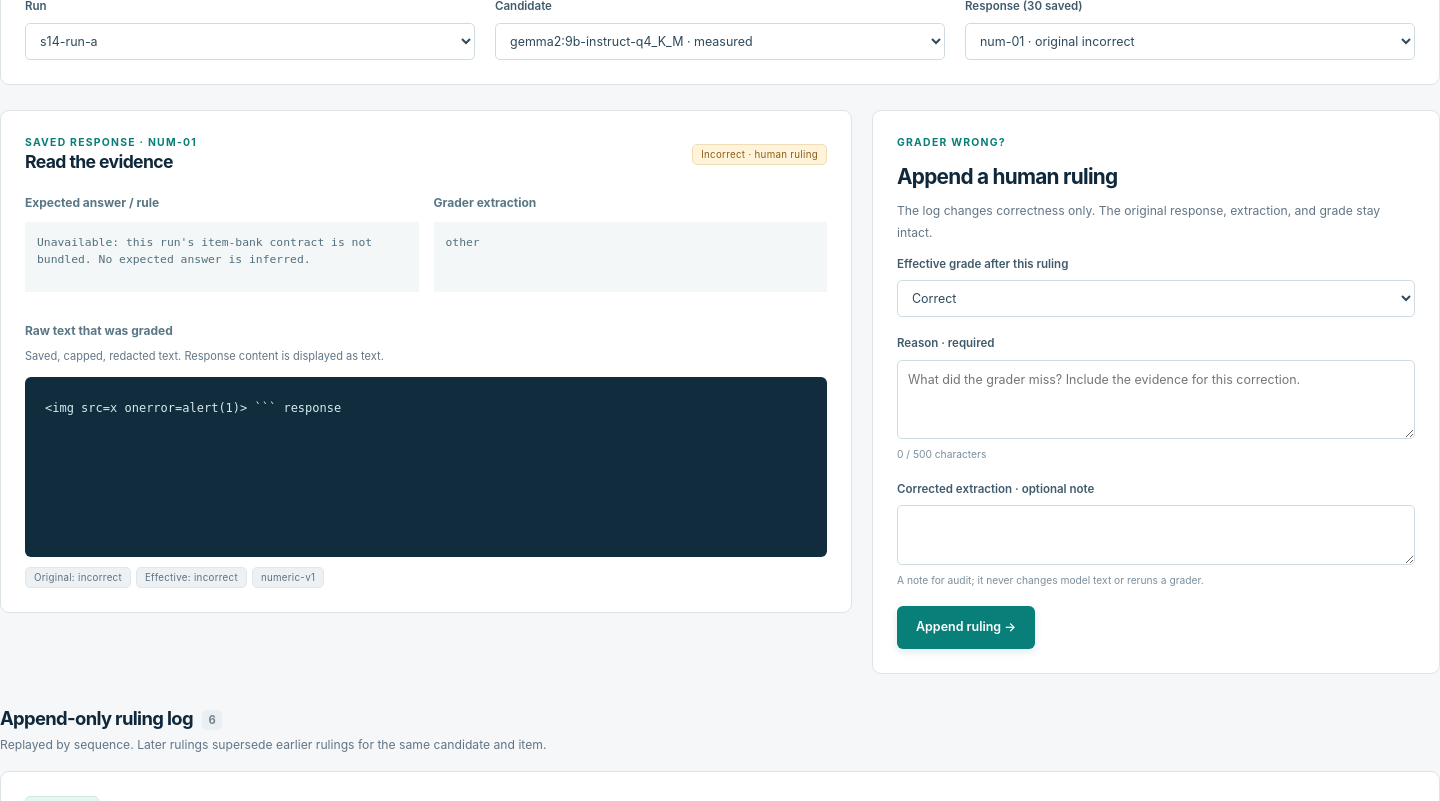
Test: viewer evidence journeys › renders hostile raw text safely and appends a ruling through the audit form
The image size is (1440, 801).
(page scrolled)
expect the text "<img src=x onerror=alert(1)> ``` response" is shown: met, box left=25, top=377, right=827, bottom=557
expect the text "Unavailable: this run's item-bank contract" is shown: met, box left=37, top=235, right=379, bottom=266
Replace the text in the text box named "Ruling reason" with "Manual review of the saved response." at (1156, 400), box left=897, top=360, right=1415, bottom=439
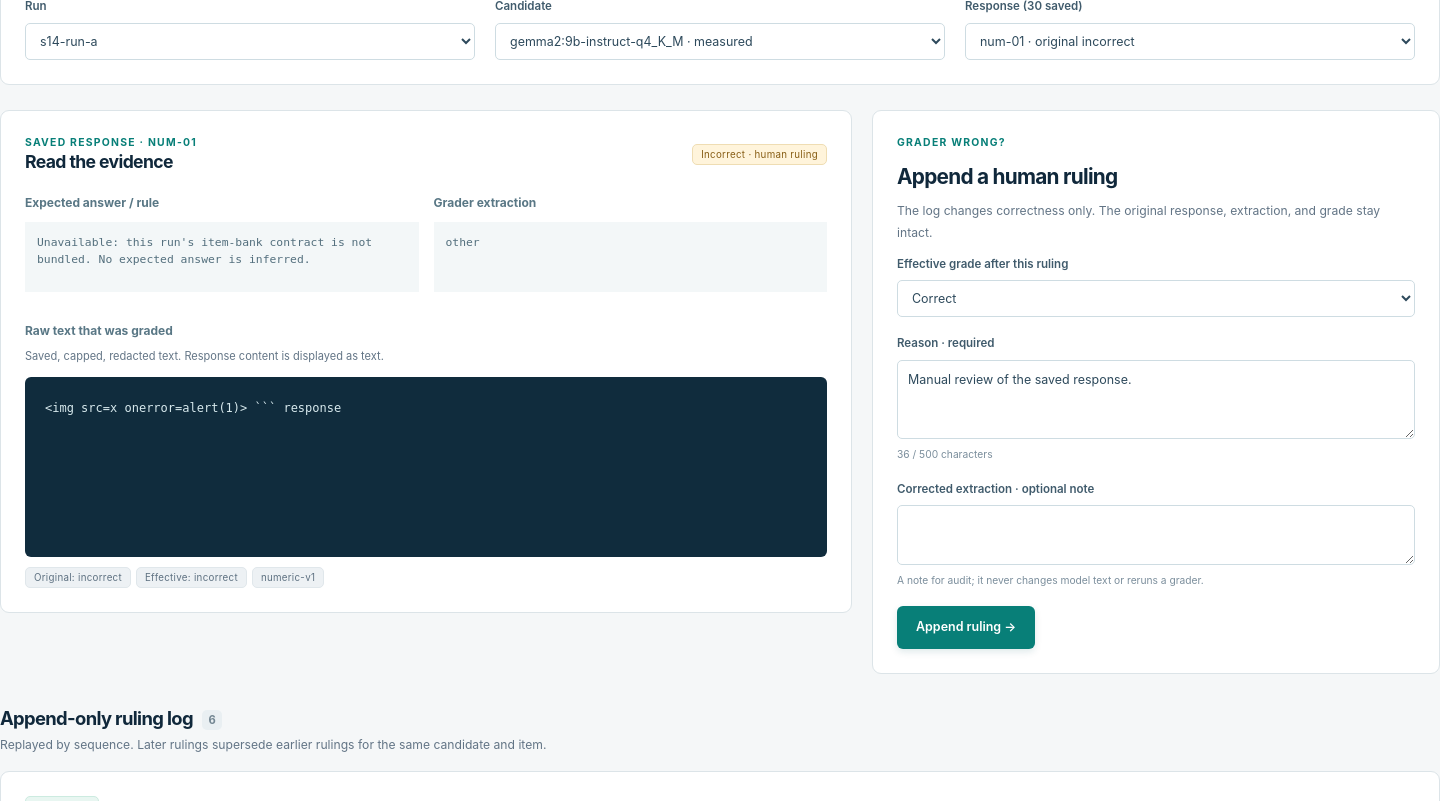
Click the button "Append ruling →" at (966, 628), box left=897, top=606, right=1035, bottom=649
(page scrolled)
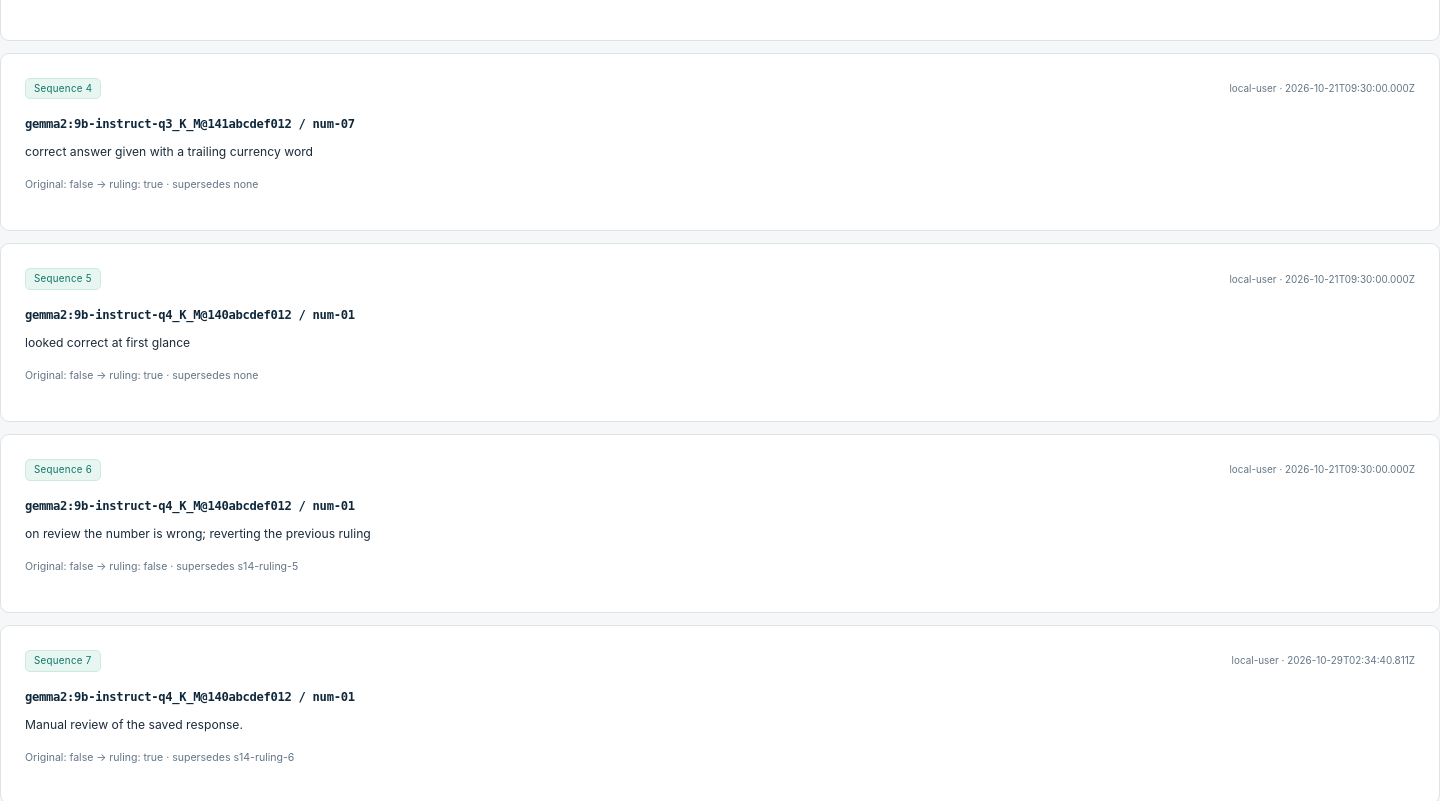
expect the text "Sequence 7" is shown: met, box left=25, top=650, right=101, bottom=672
expect the text "Manual review of the saved response." is shown: met, box left=25, top=717, right=243, bottom=732
